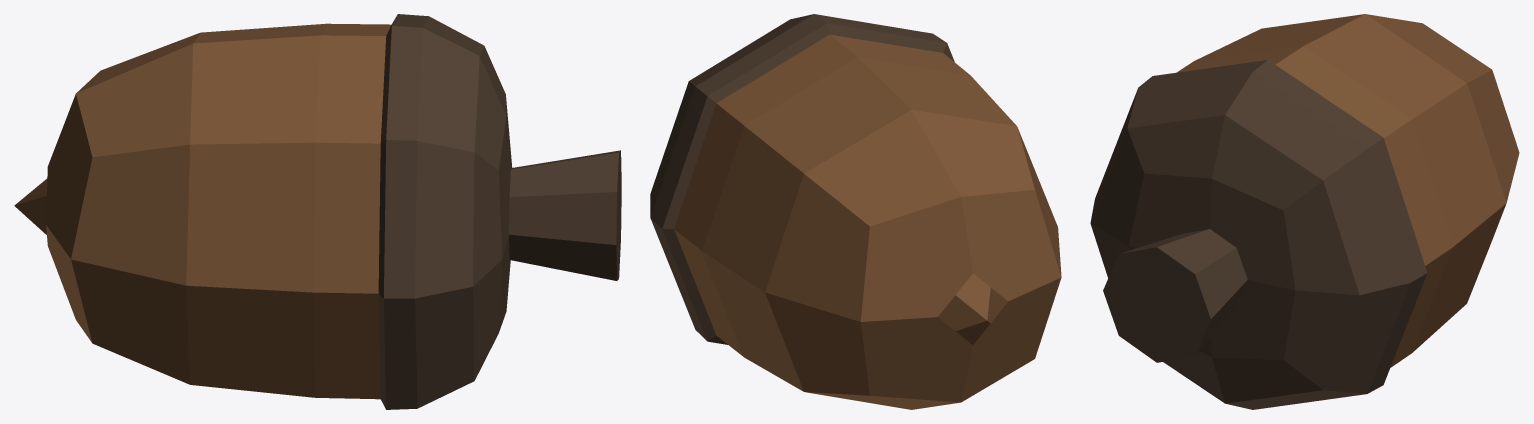
Rendered from dotori2.gltf.
3 renders of one model, left to right at view 1: azimuth 30°, elevation 25°; view 2: azimuth 150°, elevation 25°; view 3: azimuth 270°, elevation 25°, orthographic. The views are drawn at different scales.
Visible parts, largest first — view 1: Cube.005_Cube.002, Cube.006_Cube.002; view 2: Cube.005_Cube.002, Cube.006_Cube.002; view 3: Cube.006_Cube.002, Cube.005_Cube.002.
Boxes of the visible parts, x1,y1,x2,y2 form: Cube.005_Cube.002: [14, 23, 391, 399]; Cube.006_Cube.002: [378, 14, 621, 409]; Cube.005_Cube.002: [674, 34, 1061, 409]; Cube.006_Cube.002: [650, 14, 954, 344]; Cube.006_Cube.002: [1090, 60, 1427, 409]; Cube.005_Cube.002: [1177, 14, 1519, 367].
Bounding box in the file's own units: 2.79 × 2.04 × 2.32.
